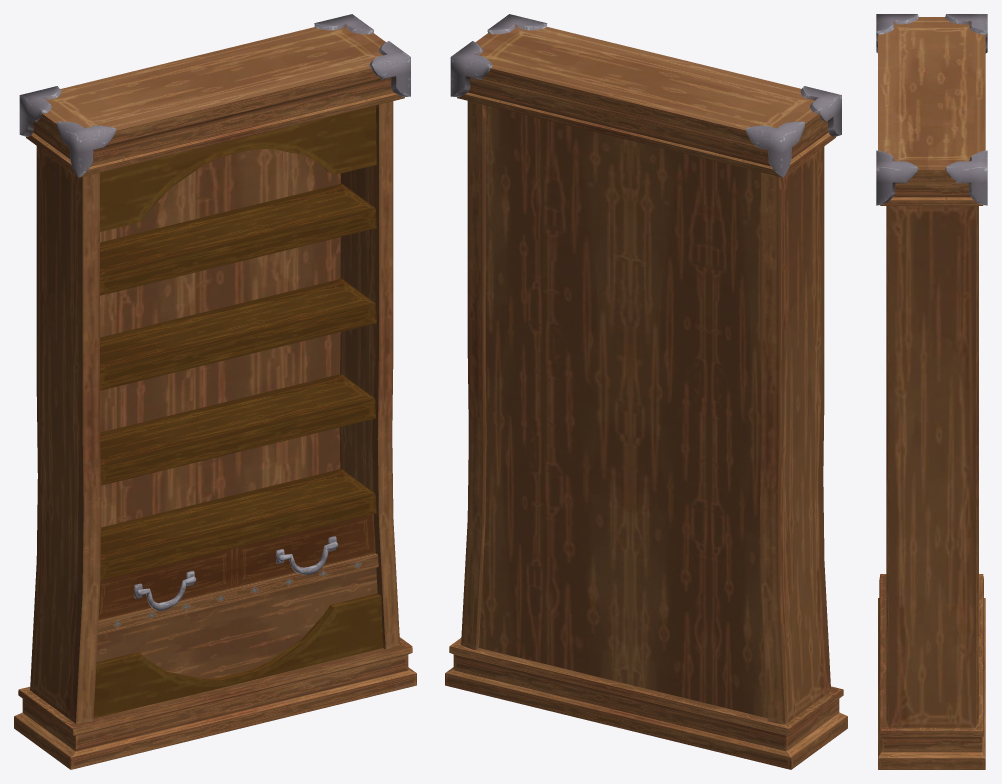
Rendered from Bookcase 2.glb.
The picture shows the model from 3 angles, left to right: view 1: azimuth 30°, elevation 25°; view 2: azimuth 150°, elevation 25°; view 3: azimuth 270°, elevation 25°; orthographic projection. The views are drawn at different scales.
Visible parts, largest first — view 1: Bookcase_2; view 2: Bookcase_2; view 3: Bookcase_2.
Part boxes in pixels (bbox=[...]): Bookcase_2: bbox=[14, 14, 416, 769]; Bookcase_2: bbox=[445, 14, 847, 769]; Bookcase_2: bbox=[876, 14, 987, 769].
Size of the model in its own units: 1.46 by 2.54 by 0.429.
Materials: 2 (2 with a texture image).
